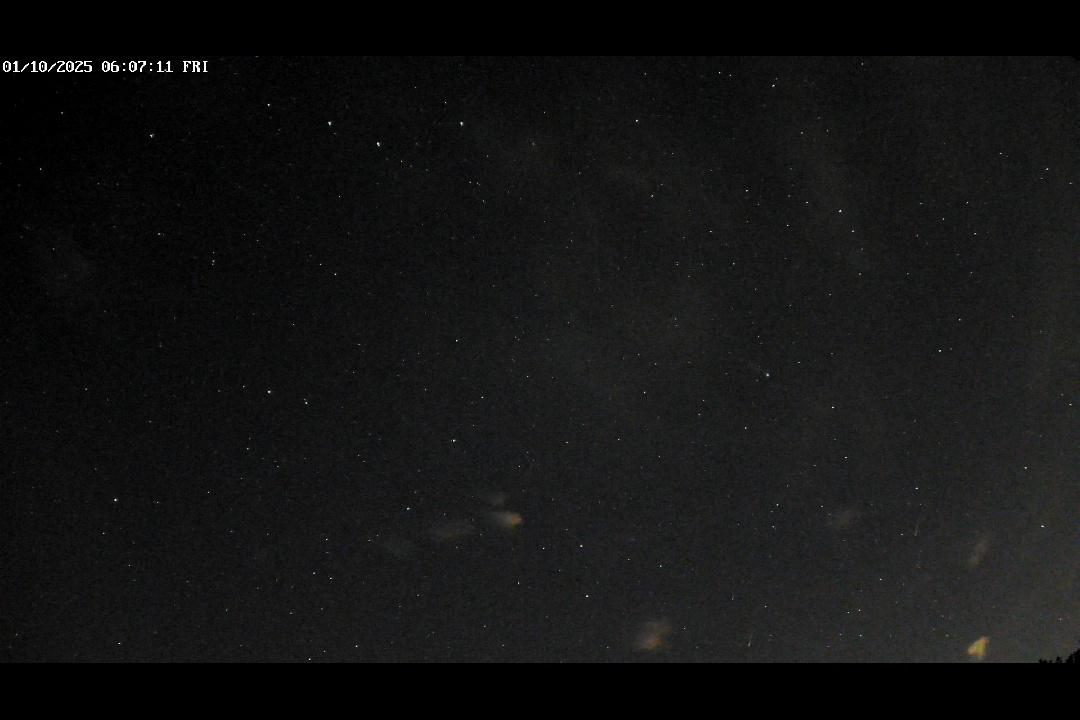Plane: (910, 514, 927, 543), (744, 629, 758, 651)
